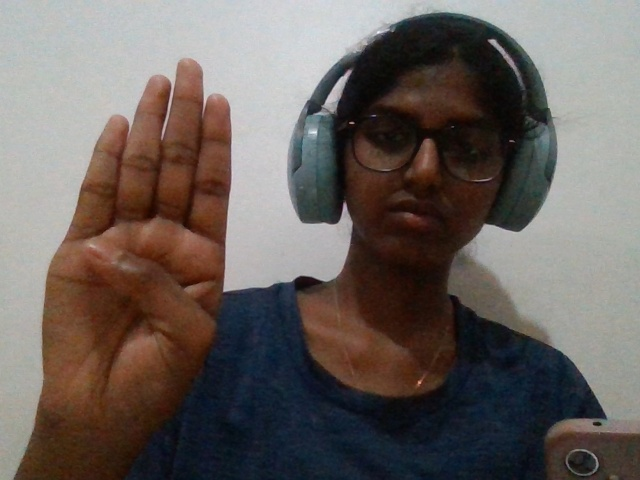B: (20, 51, 245, 477)
